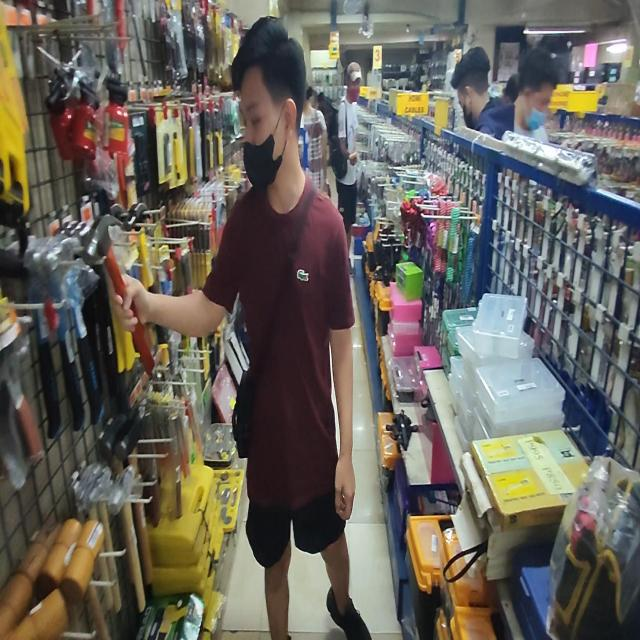hammer: (86, 214, 155, 374)
